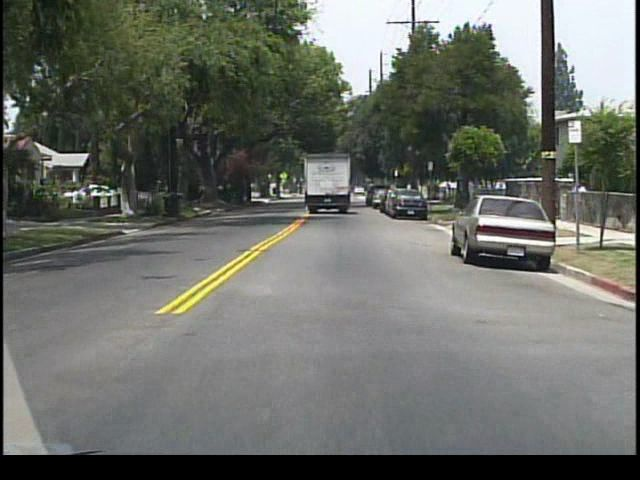person: (571, 177, 589, 222)
